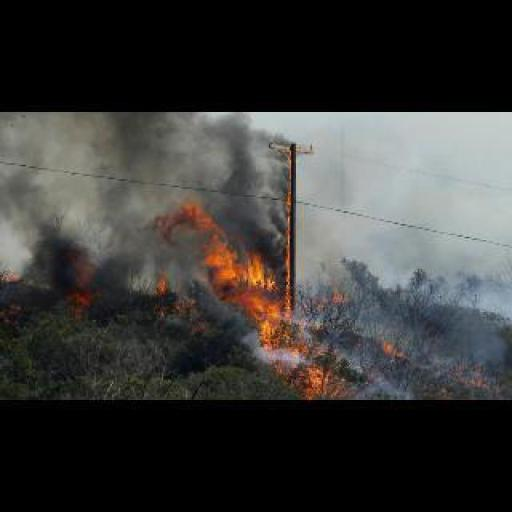smoke: (182, 166, 341, 390), (202, 110, 291, 261)
